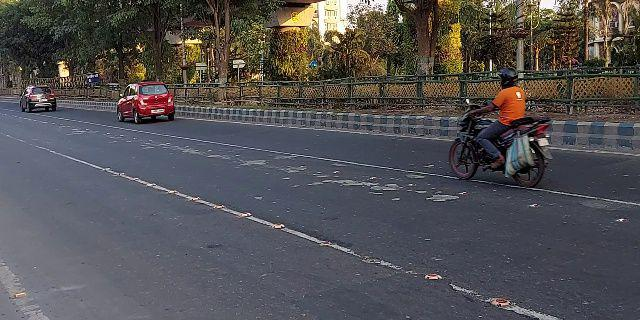Car: (112, 79, 177, 127), (16, 81, 59, 115)
Motorbike: (444, 66, 556, 191)
